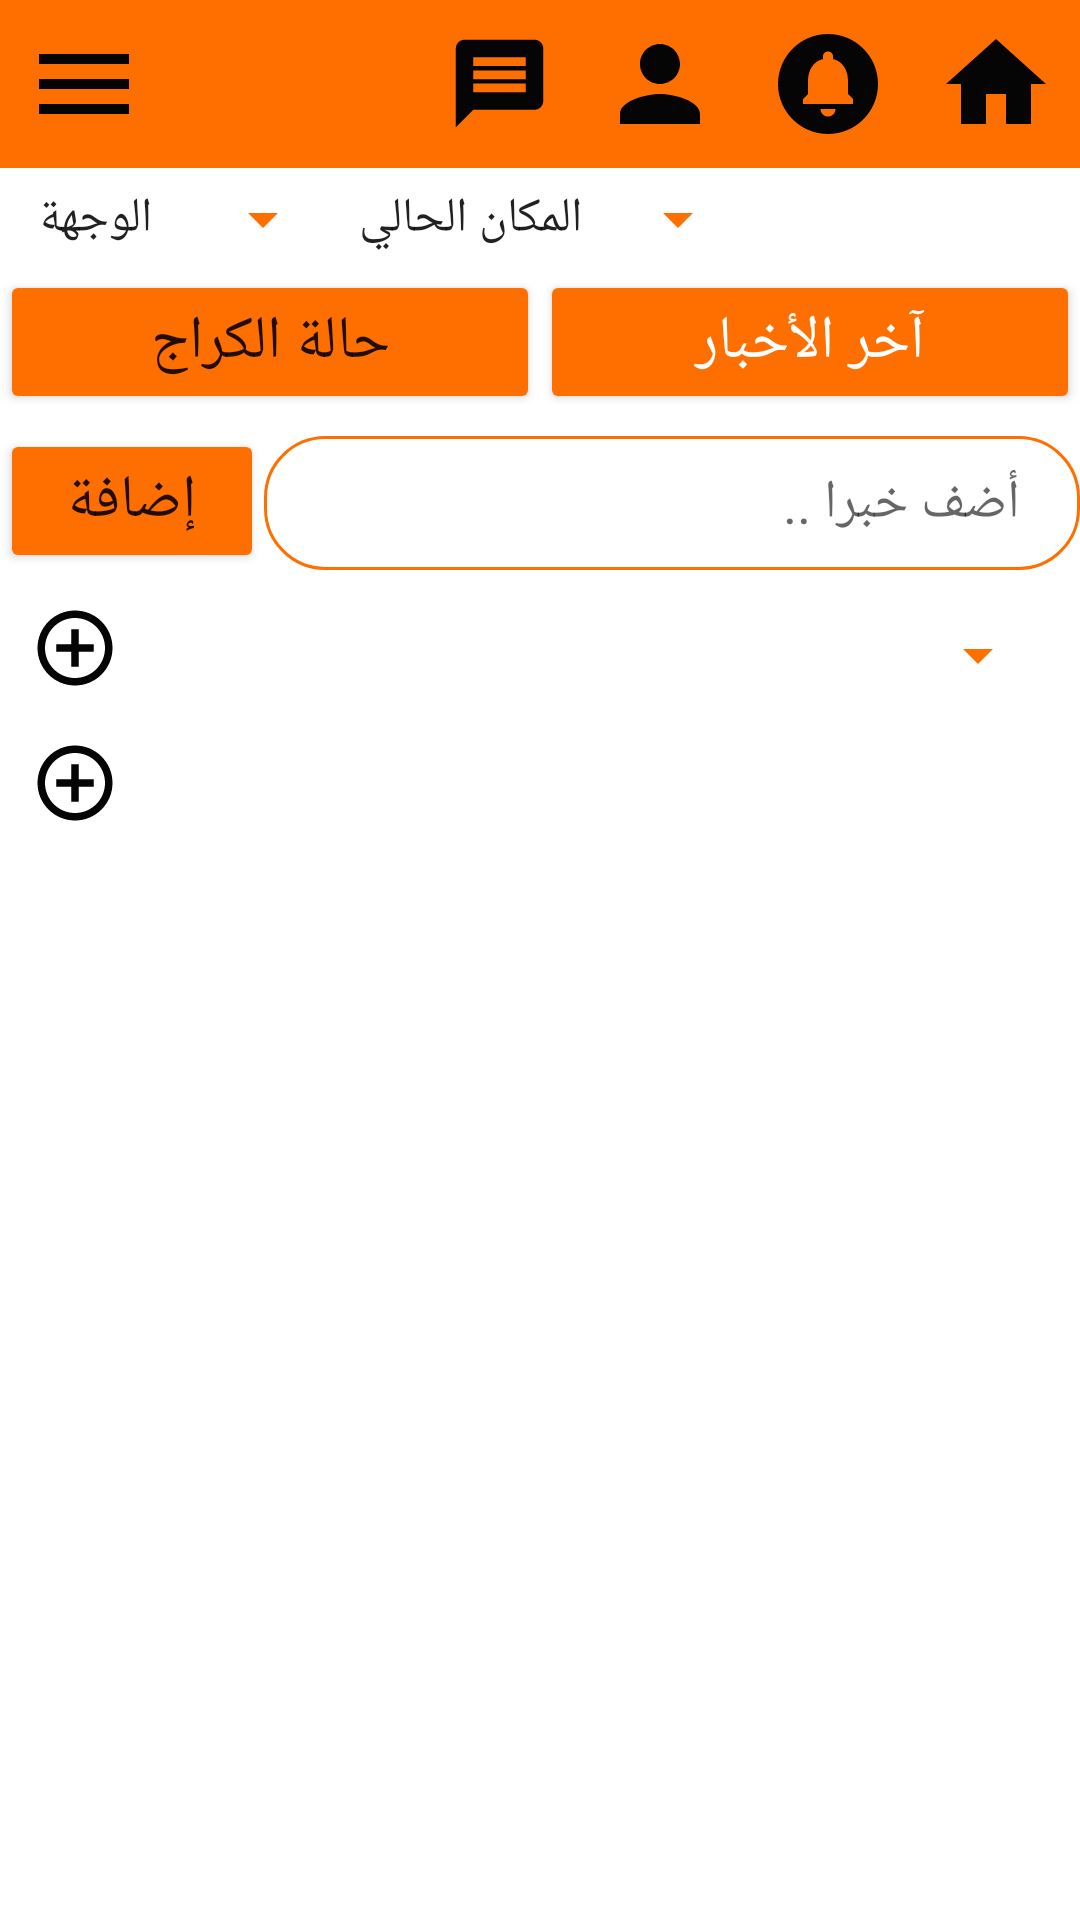

Where to tap for icons on this 1080px x 1920px app screen, as (x=x, y=y):
home: (x=996, y=81)
menu: (x=84, y=84)
message: (x=499, y=83)
notifications: (x=828, y=84)
person: (x=660, y=84)
